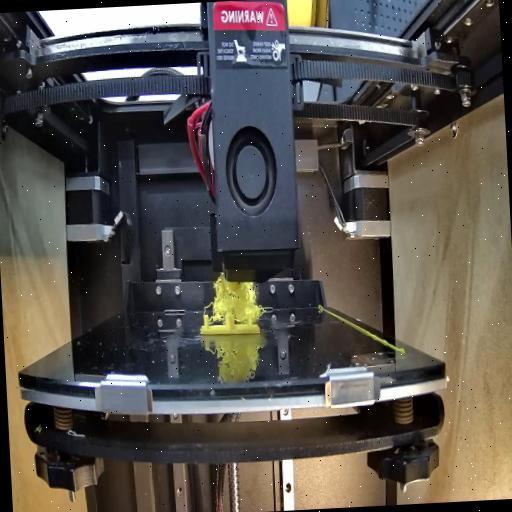spaghetti: (208, 272, 262, 322)
